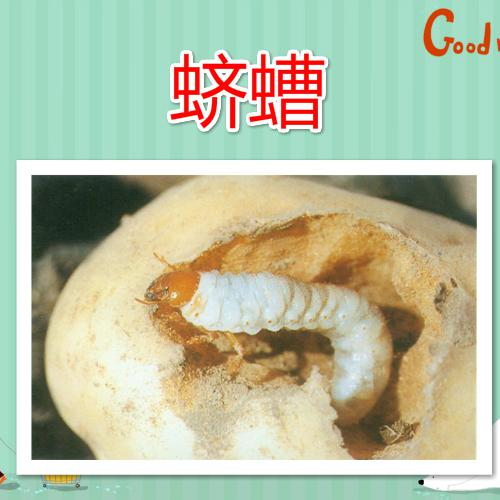grub: (148, 262, 398, 425)
